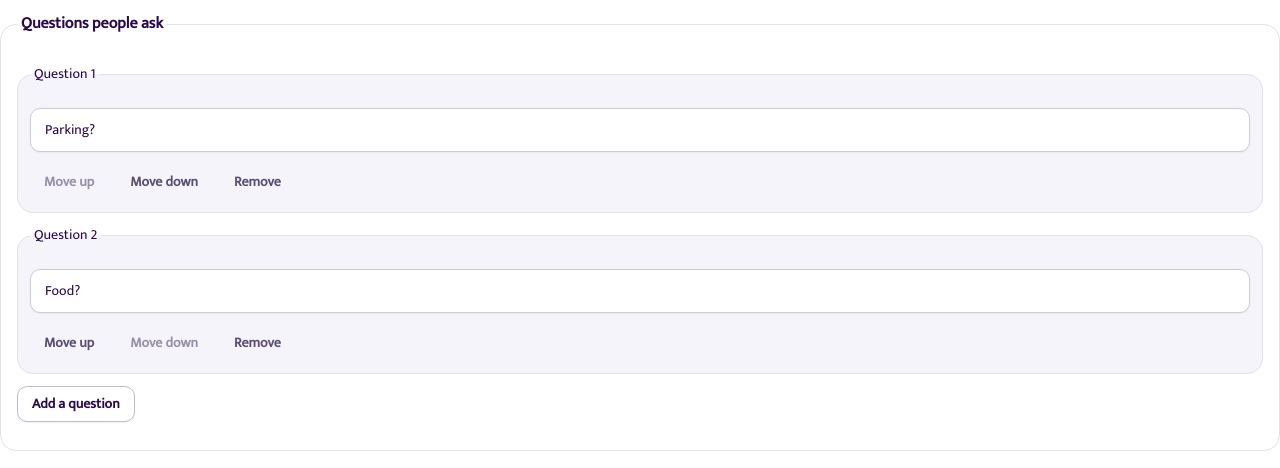
Test: a repeatable list › moves a row, says so politely, and keeps focus on it
Click the button with aria-label "Move question 2 up": point(69, 343) [30,325,108,361]
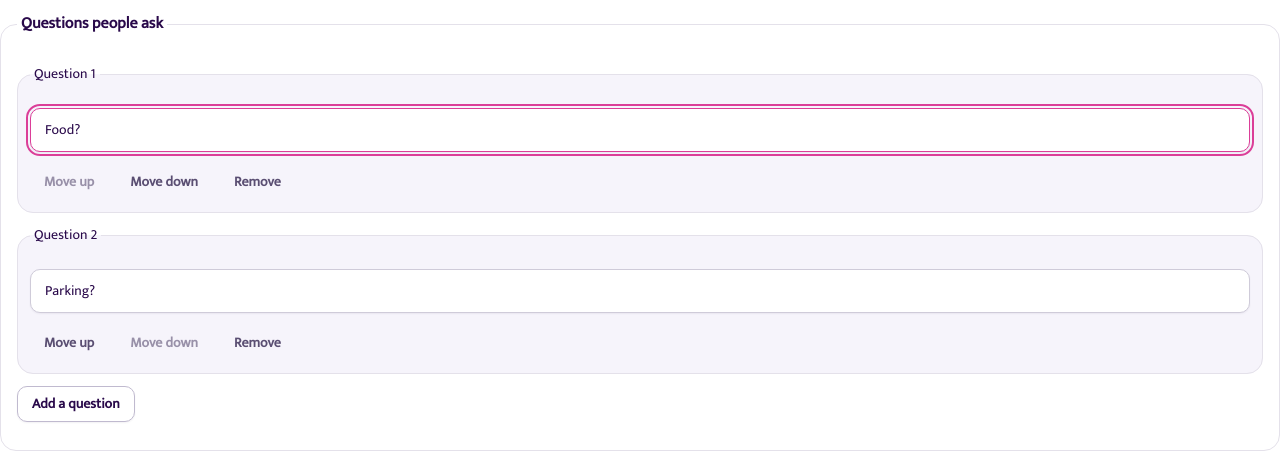
Now the field named "Question 1 text" holds "Food?", box [30,108,1250,152]
